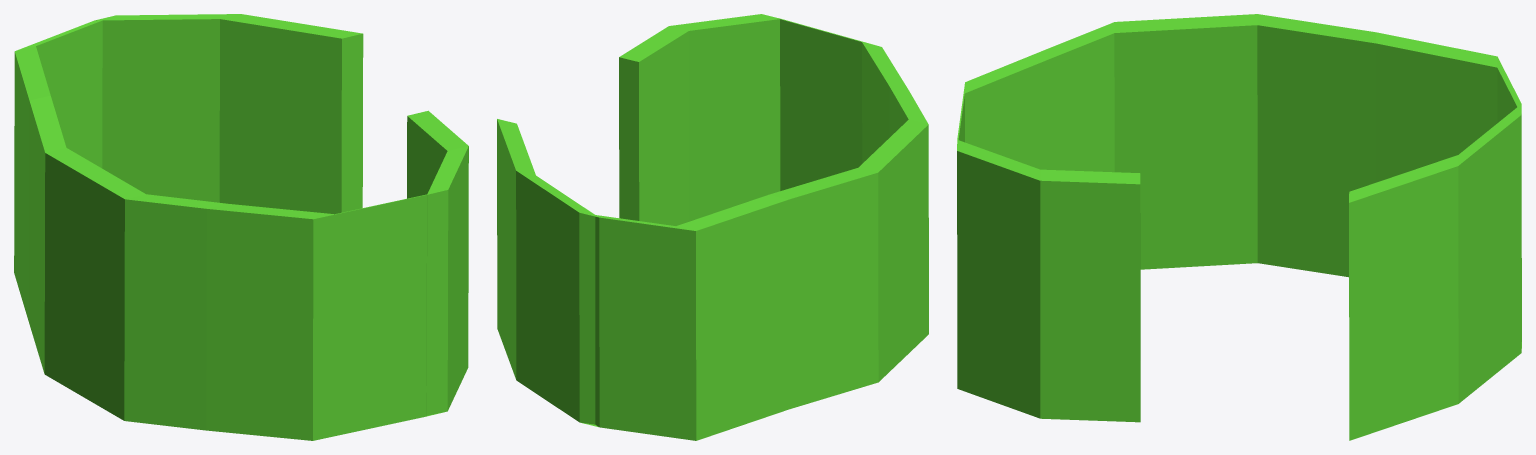
File: InvWall7.fbx
3 renders of one model, left to right at view 1: azimuth 30°, elevation 25°; view 2: azimuth 150°, elevation 25°; view 3: azimuth 270°, elevation 25°, orthographic. The views are drawn at different scales.
Parts seen in each view (by area): view 1: Island 7.001; view 2: Island 7.001; view 3: Island 7.001.
Part boxes in pixels (x1=…): Island 7.001: x1=14, y1=14, x2=468, y2=440; Island 7.001: x1=497, y1=14, x2=928, y2=440; Island 7.001: x1=957, y1=14, x2=1521, y2=440.
Bounding box in the file's own units: 1704 × 1015 × 2149.
